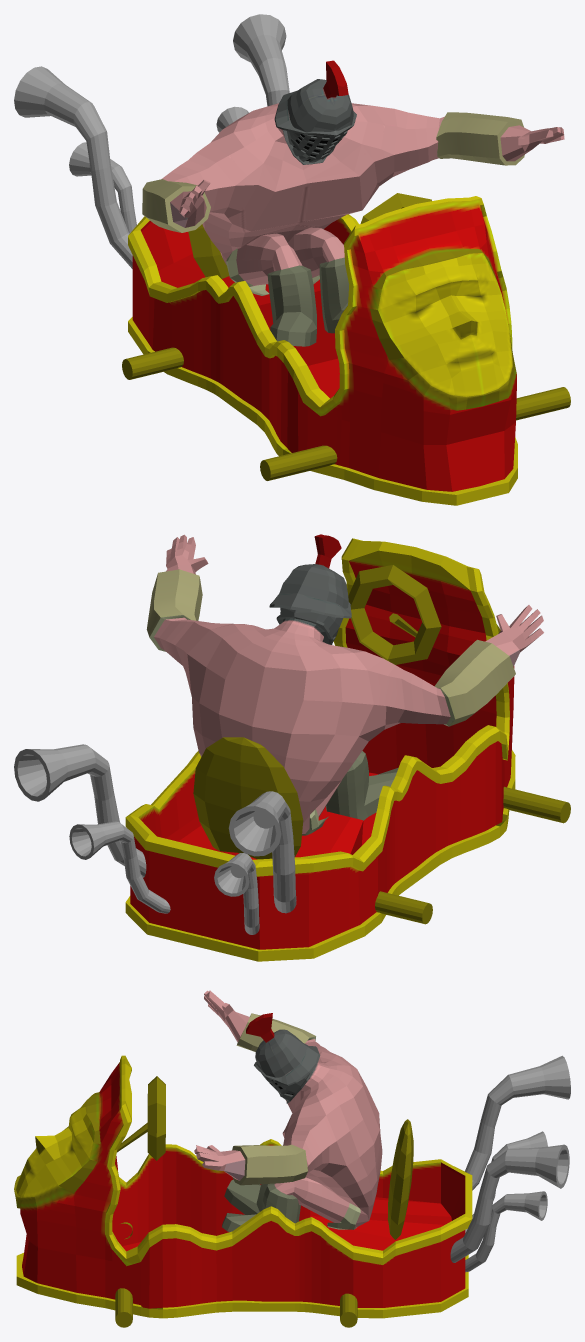
Rendered from GladiHabilidad_000531.obj.
The picture shows the model from 3 angles, top to bottom: view 1: azimuth 30°, elevation 25°; view 2: azimuth 150°, elevation 25°; view 3: azimuth 270°, elevation 25°; orthographic projection. The views are drawn at different scales.
Parts seen in each view (by area): view 1: GladiChasis_GladiChasisH, Gadiador_Gladiador_H.001, GladiTubos_GladiTubosH, GladiVolante_GladiVolanteH; view 2: GladiChasis_GladiChasisH, Gadiador_Gladiador_H.001, GladiVolante_GladiVolanteH, GladiTubos_GladiTubosH; view 3: GladiChasis_GladiChasisH, Gadiador_Gladiador_H.001, GladiTubos_GladiTubosH, GladiVolante_GladiVolanteH.
Boxes of the visible parts, x1,y1,x2,y2 form: GladiChasis_GladiChasisH: [128, 196, 517, 505]; Gadiador_Gladiador_H.001: [142, 60, 564, 346]; GladiTubos_GladiTubosH: [14, 14, 289, 268]; GladiVolante_GladiVolanteH: [122, 193, 570, 480]; GladiChasis_GladiChasisH: [125, 538, 515, 961]; Gadiador_Gladiador_H.001: [146, 534, 543, 835]; GladiVolante_GladiVolanteH: [193, 565, 570, 924]; GladiTubos_GladiTubosH: [14, 744, 296, 934]; GladiChasis_GladiChasisH: [14, 1055, 472, 1318]; Gadiador_Gladiador_H.001: [194, 990, 382, 1232]; GladiTubos_GladiTubosH: [450, 1055, 570, 1272]; GladiVolante_GladiVolanteH: [115, 1076, 413, 1327].
Size of the model in its own units: 6.92 by 5.6 by 10.78.
